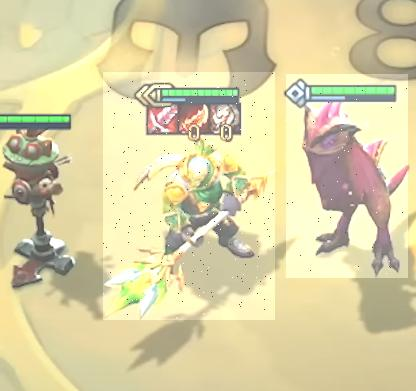2_zippy: (286, 74, 408, 278)
3_jax: (103, 72, 275, 320)
